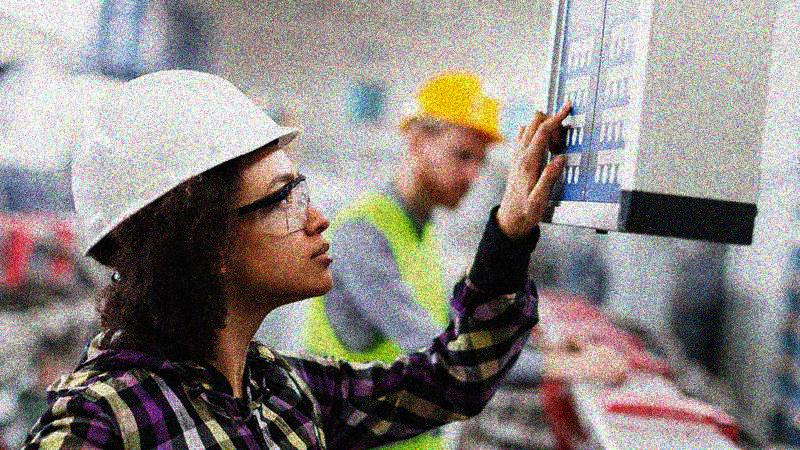helmet: (67, 66, 339, 296), (395, 66, 509, 212)
